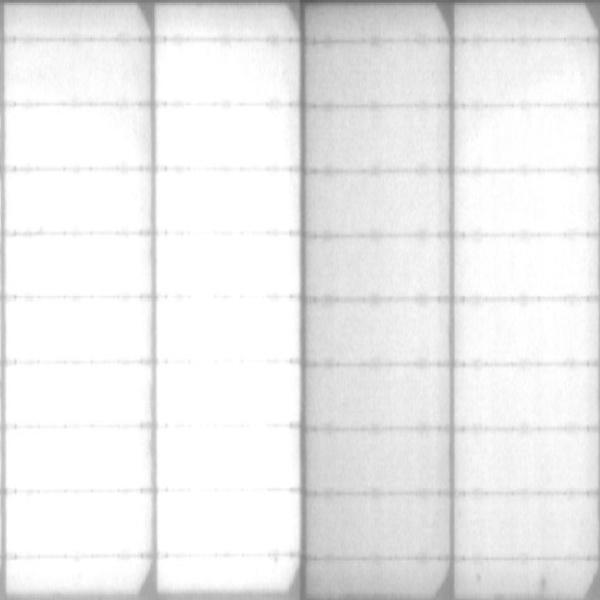hot_spot: (167, 432, 288, 549), (161, 302, 293, 356), (9, 112, 142, 165), (10, 303, 142, 355), (12, 435, 148, 485), (16, 500, 146, 551), (10, 175, 137, 226), (164, 370, 293, 420), (14, 240, 142, 290), (163, 243, 292, 292), (163, 116, 289, 164), (166, 177, 291, 225), (17, 374, 142, 420), (160, 46, 261, 99), (163, 560, 288, 587), (15, 563, 139, 587)
